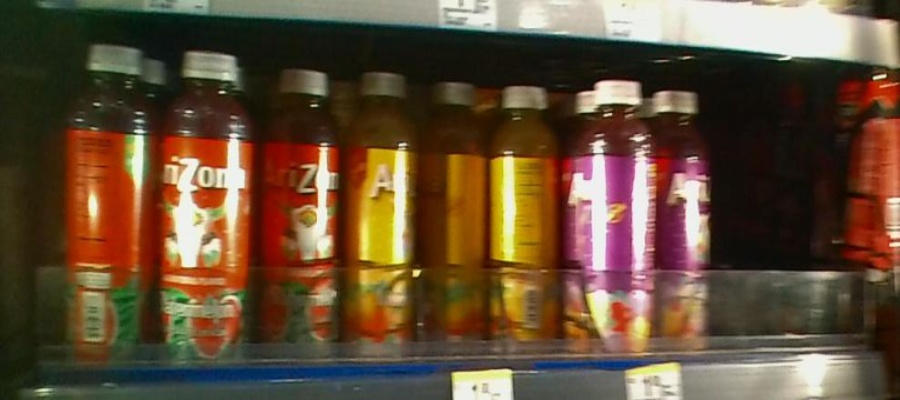bottle: (58, 32, 157, 376), (159, 40, 257, 371), (258, 59, 345, 373), (350, 53, 420, 367), (489, 58, 562, 359), (584, 64, 654, 359), (422, 64, 487, 358), (655, 82, 714, 364)
